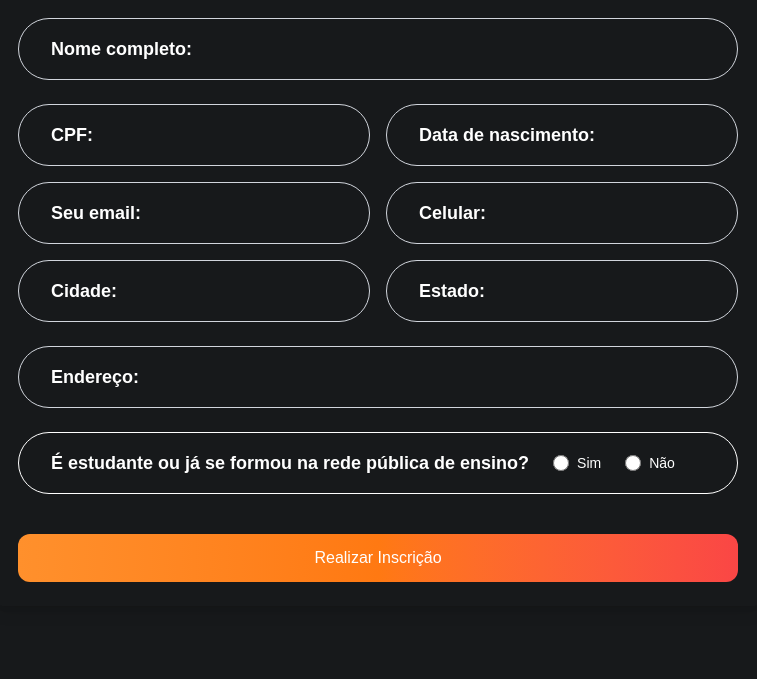
RegistrationForm Component › Form Validation › should validate CPF format
Type "12345678901" into the field with placeholder "CPF:". click: [194, 135]
box: [18,104,370,166]
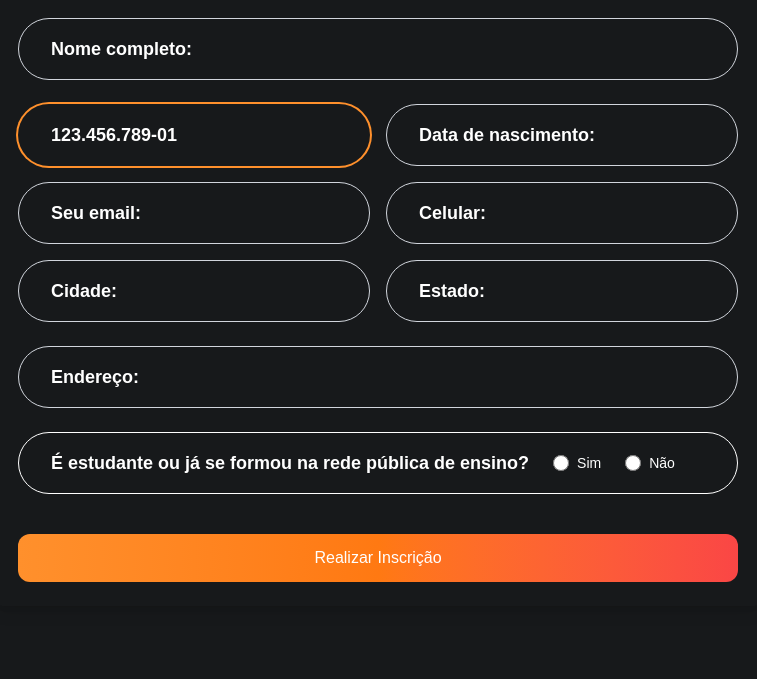
Click the button "Realizar Inscrição". click: [378, 558]
box: [18,534,738,582]
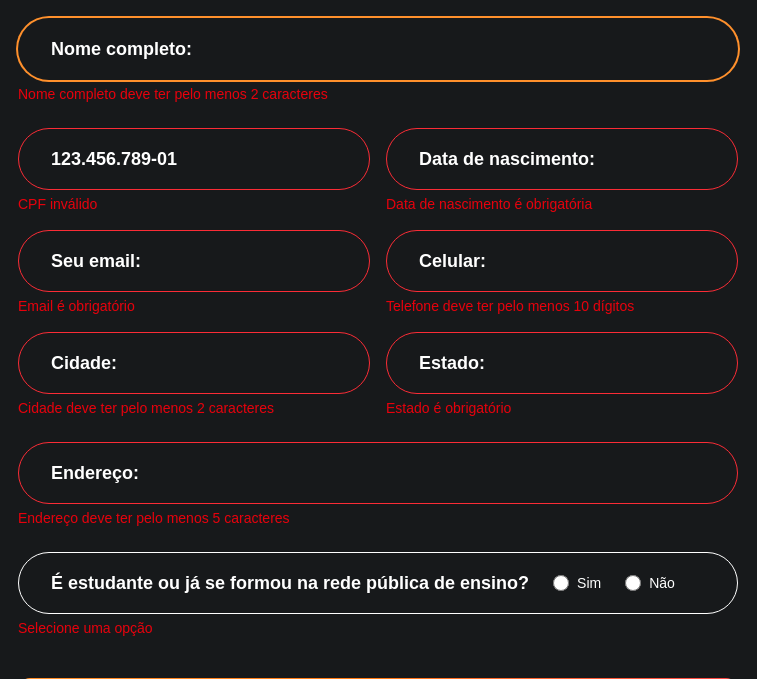
Now the text "CPF inválido" is shown, box [18,196,97,212]
